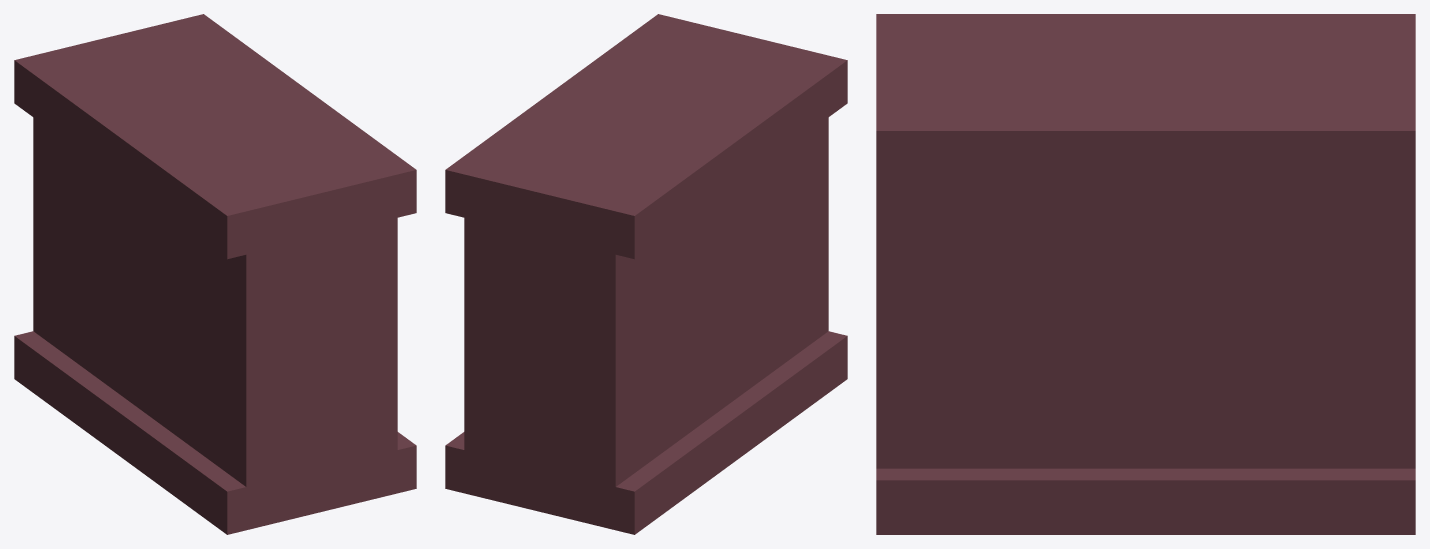
Rendered from Muralha.FBX.
The picture shows the model from 3 angles, left to right: view 1: azimuth 30°, elevation 25°; view 2: azimuth 150°, elevation 25°; view 3: azimuth 270°, elevation 25°; orthographic projection. The views are drawn at different scales.
Visible parts, largest first — view 1: Box002; view 2: Box002; view 3: Box002.
Boxes of the visible parts, x1,y1,x2,y2 form: Box002: (14,14,416,534); Box002: (445,14,847,534); Box002: (876,14,1415,534).
Bounding box in the file's own units: 0.5134 × 0.8265 × 1.
